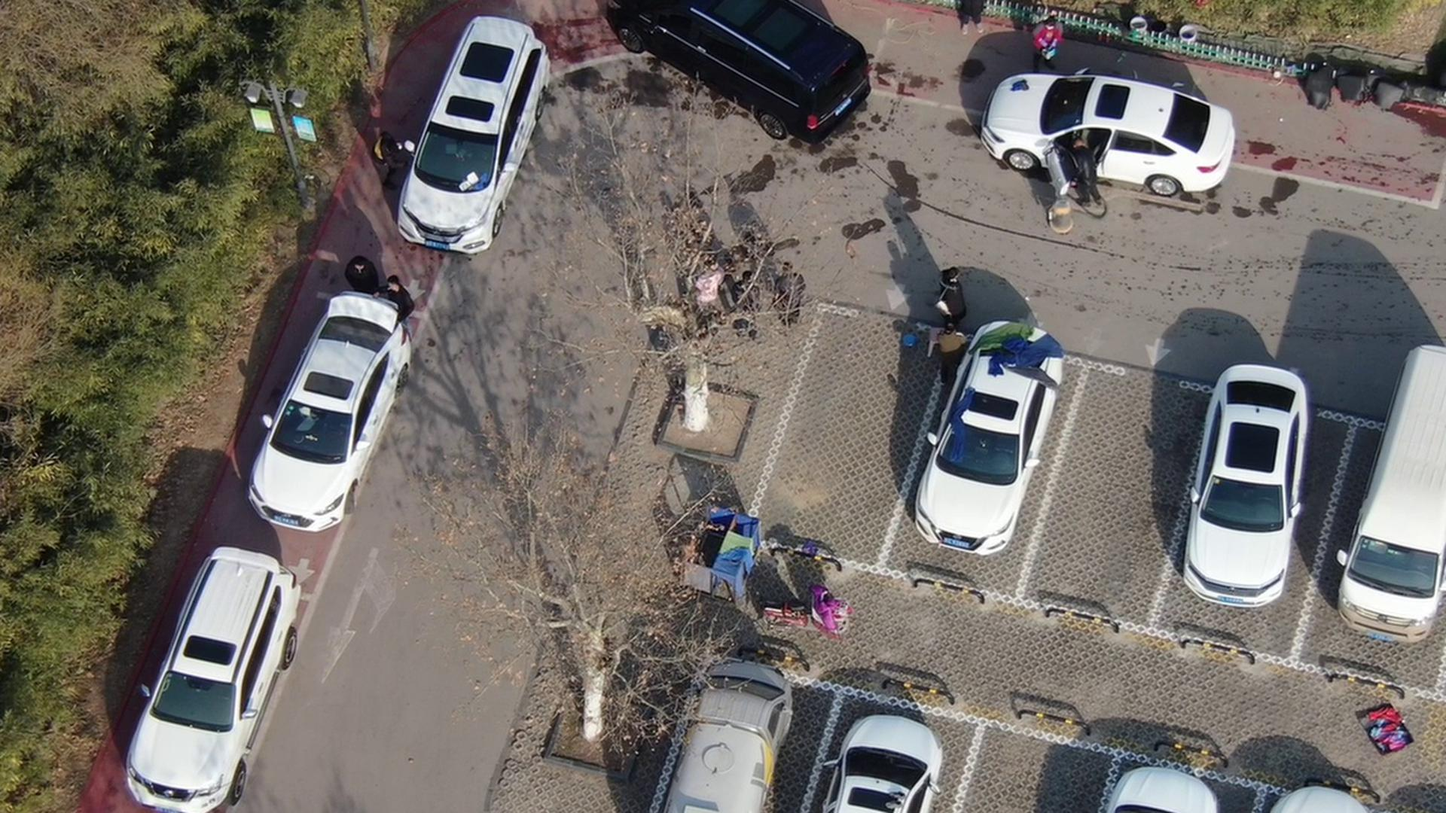human: (1079, 132, 1113, 218), (375, 130, 419, 190), (938, 314, 973, 385), (1031, 14, 1075, 70), (351, 247, 391, 308), (394, 266, 426, 342), (778, 260, 811, 332), (737, 266, 767, 341), (939, 256, 972, 313)
